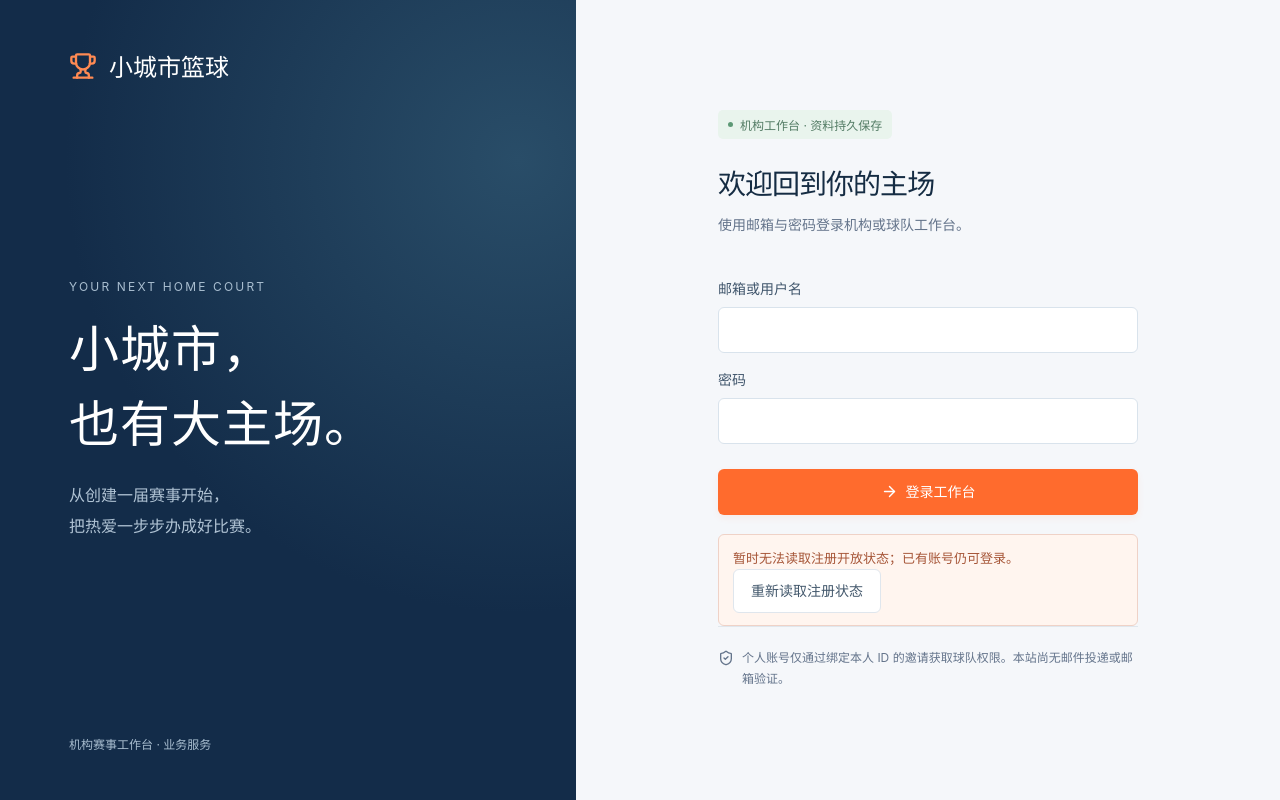
independent signed-out registration capabilities › fails closed for an unavailable capability endpoint, keeps login enabled, and retries only that read
Expected: the message shows "已有账号仍可登录", top-left (733, 550), bottom-right (1019, 566)
Expected: the button "登录工作台" is enabled, top-left (718, 469), bottom-right (1138, 515)
Click the button "重新读取注册状态" at (807, 591), box top-left (733, 569), bottom-right (881, 613)
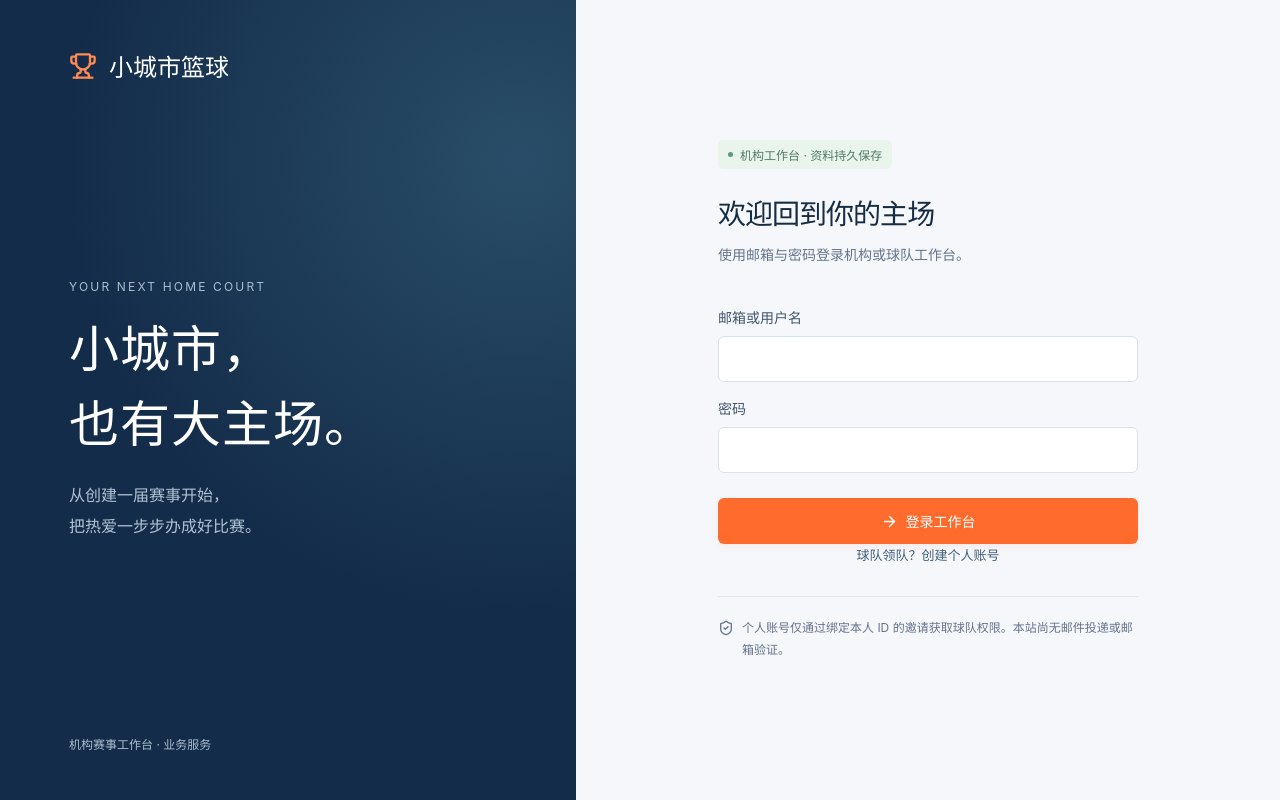
Now the button "球队领队？创建个人账号" is shown, box top-left (850, 532), bottom-right (1006, 576)
